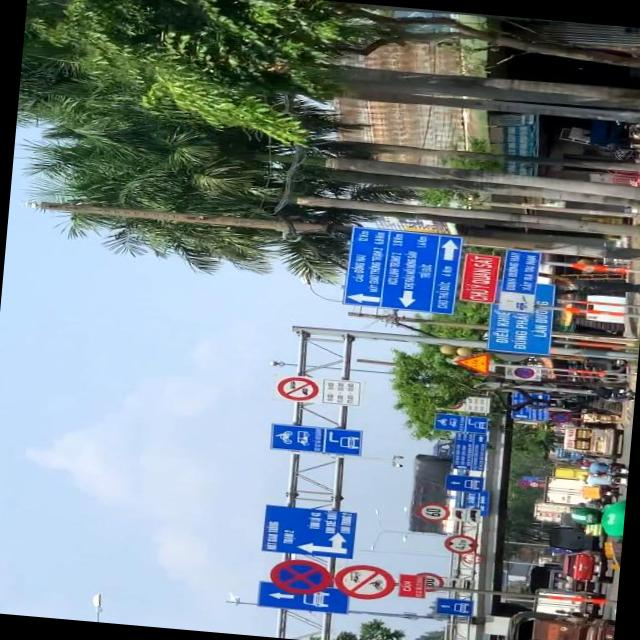P-104: (332, 562, 398, 600)
P-130: (265, 556, 332, 596)
